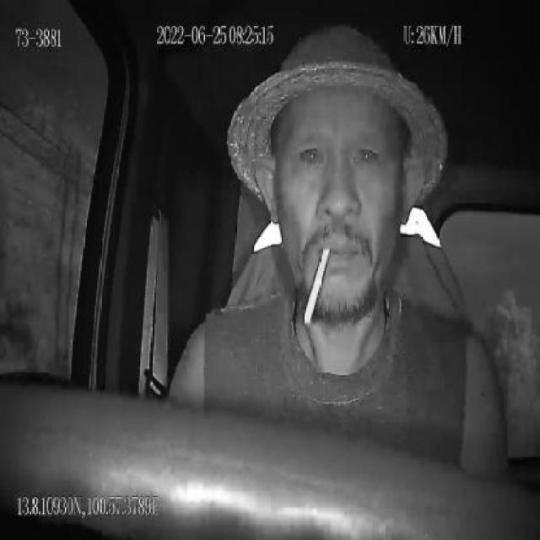smoking: (300, 245, 331, 324)
